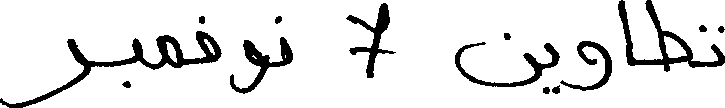7: (343, 0, 395, 77)
ا: (616, 0, 634, 66)
ب: (122, 35, 143, 87)
ت: (697, 22, 723, 67)
ر: (0, 37, 92, 106)
ط: (644, 0, 694, 73)
ف: (194, 14, 220, 64)
م: (156, 32, 184, 69)
ن: (451, 30, 541, 87), (270, 14, 293, 67)
و: (228, 38, 267, 95), (576, 38, 614, 91)
ي: (543, 41, 559, 95)
